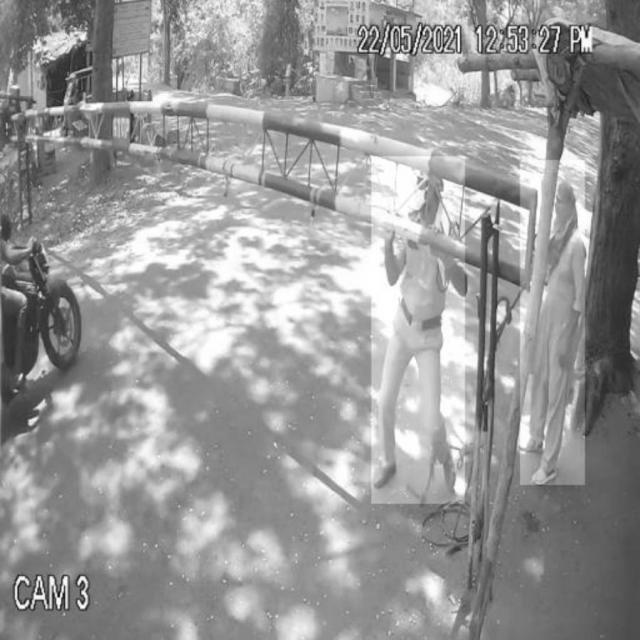person: (372, 157, 465, 504), (520, 161, 584, 486)
